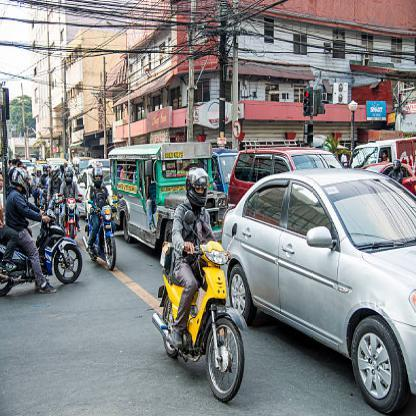Motorcycle: (158, 234, 252, 405)
